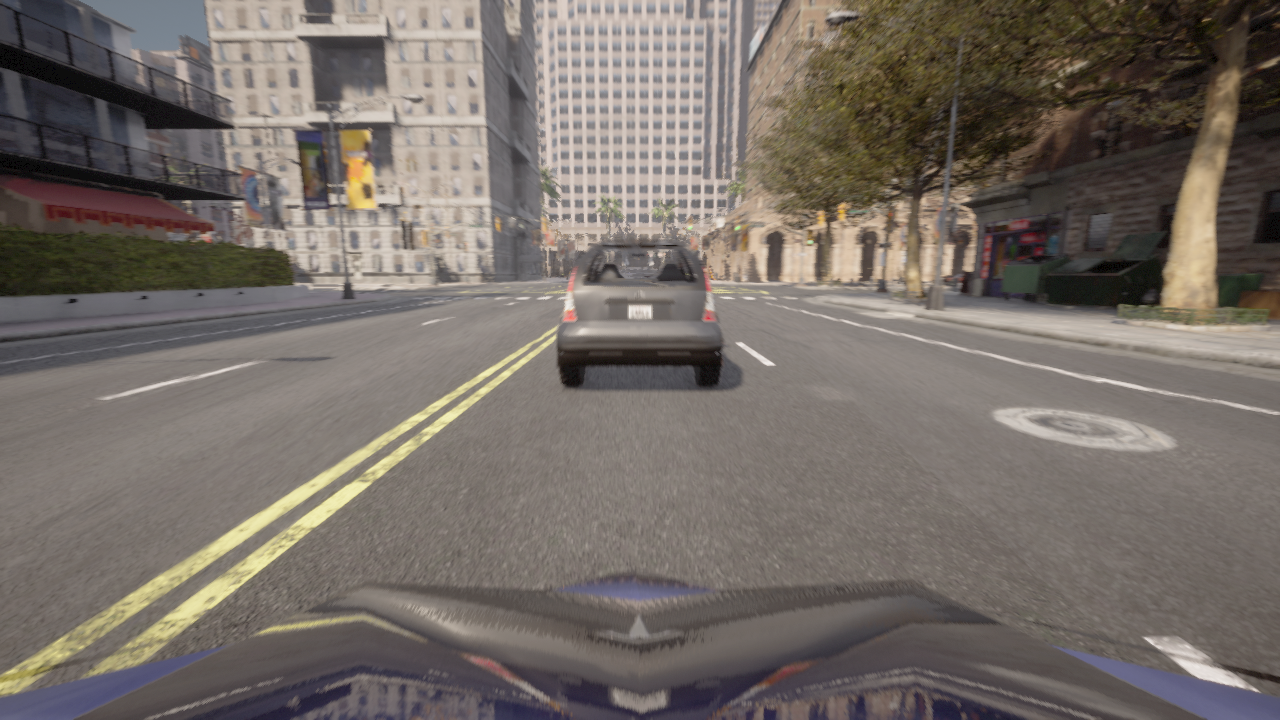cyclist: (0, 569, 1279, 719), (556, 239, 723, 386), (942, 273, 962, 285)
